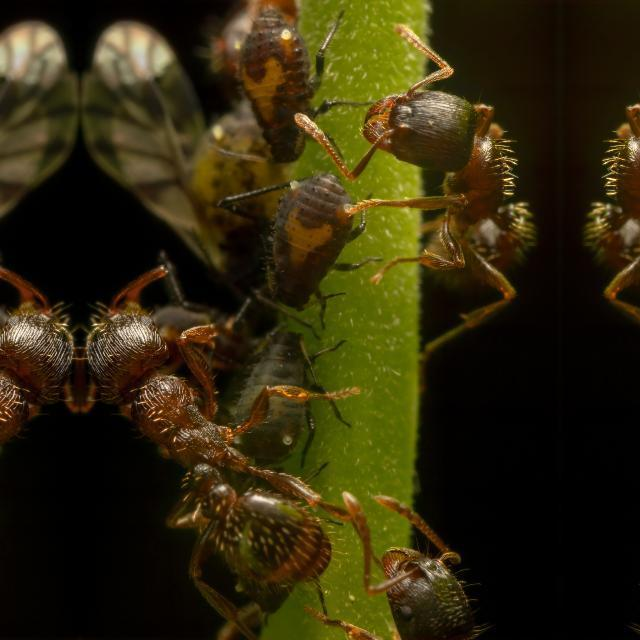Tetramorium: (320, 14, 560, 386), (80, 251, 318, 607), (560, 13, 640, 384), (0, 251, 80, 607)
